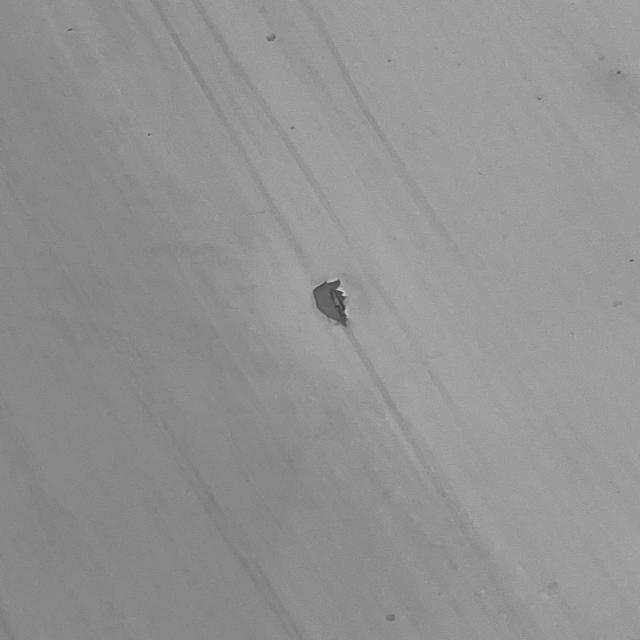crack: (303, 264, 370, 335)
